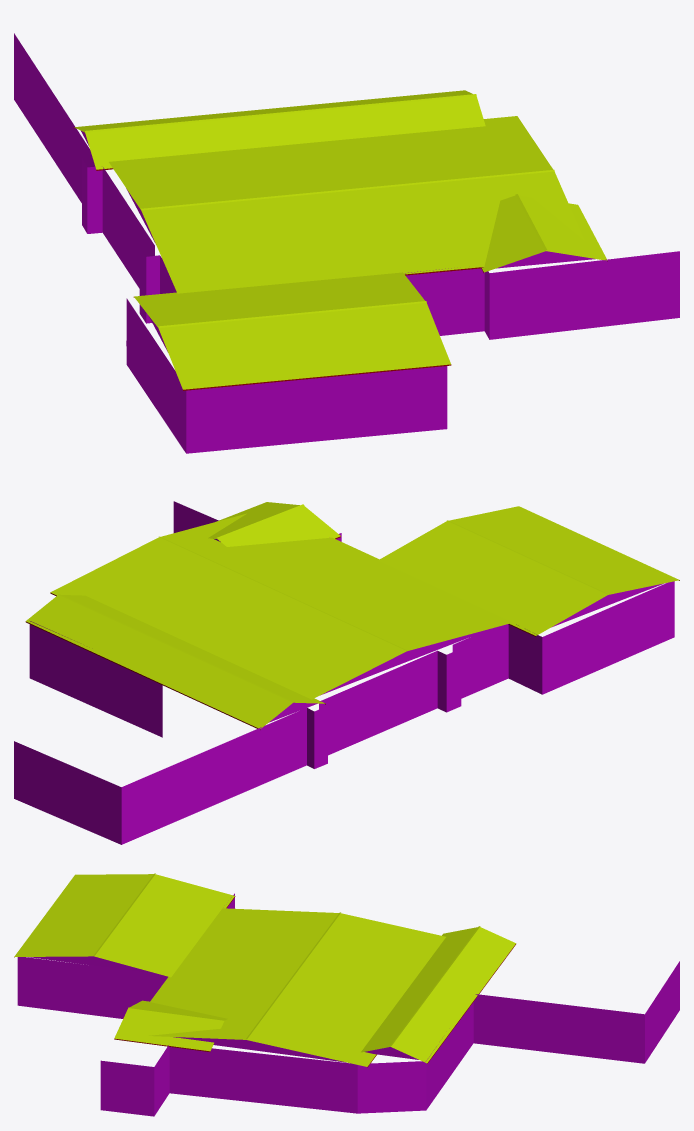
File: sag_9.glb
3 views of the same model, one above another, from view 1: azimuth 30°, elevation 25°; view 2: azimuth 150°, elevation 25°; view 3: azimuth 270°, elevation 25° (orthographic). The views are drawn at different scales.
Parts seen in each view (by area): view 1: sag_9; view 2: sag_9; view 3: sag_9.
Boxes of the visible parts, left/top/right/bottom form: sag_9: left=14, top=33, right=679, bottom=453; sag_9: left=14, top=501, right=679, bottom=844; sag_9: left=14, top=873, right=679, bottom=1116.
Size of the model in its own units: 57.35 by 8.49 by 83.73.
